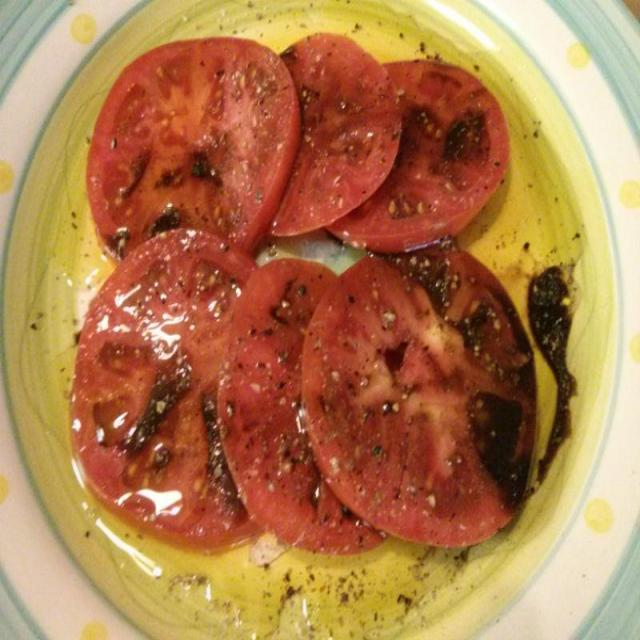Tomato: (308, 236, 527, 544), (74, 230, 233, 554), (88, 41, 280, 257)
